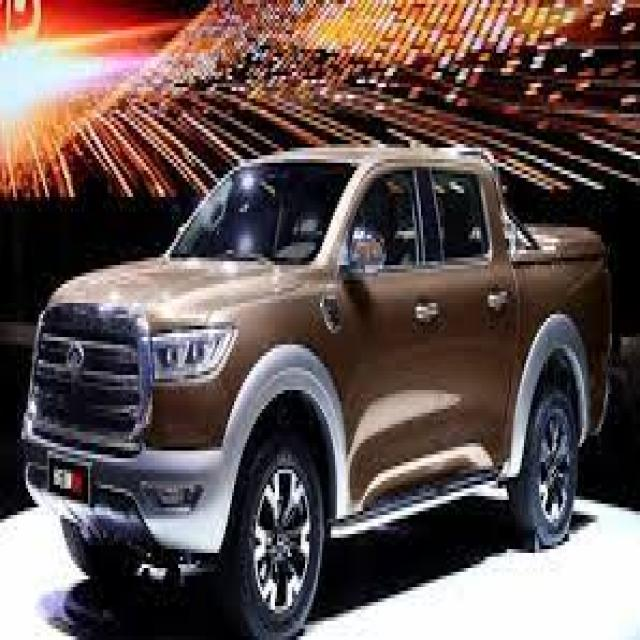Pickup Trucks: (19, 148, 614, 636)
